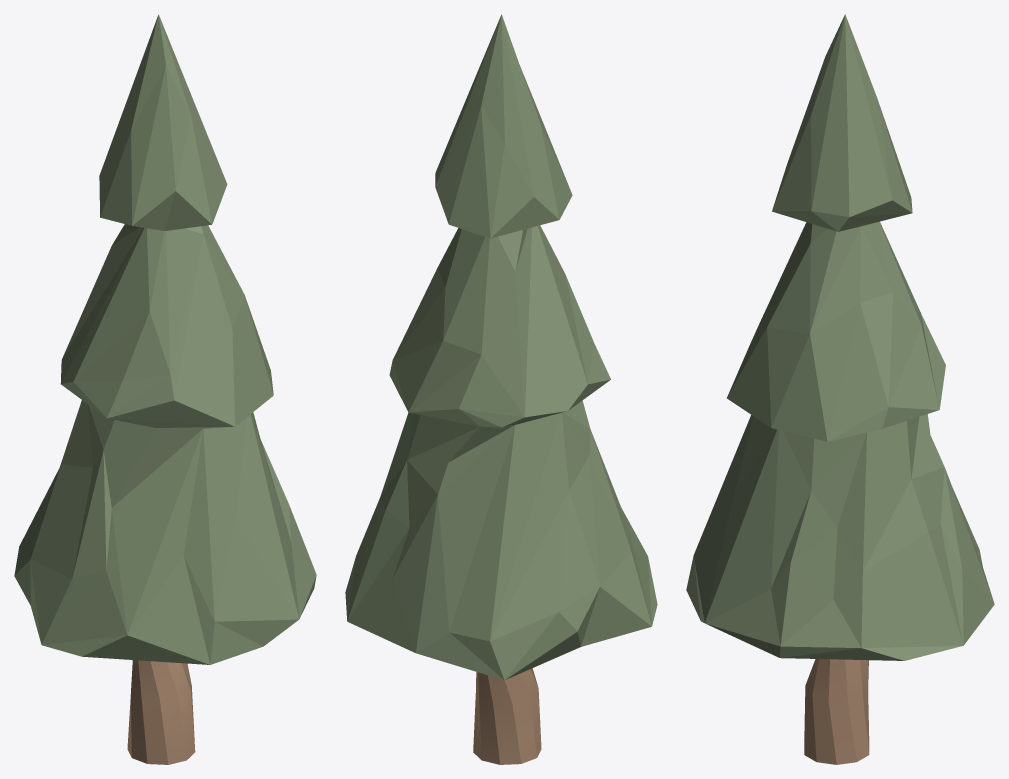
Rendered from Pine_Tree_2.fbx.
3 renders of one model, left to right at view 1: azimuth 30°, elevation 25°; view 2: azimuth 150°, elevation 25°; view 3: azimuth 270°, elevation 25°, orthographic.
Visible parts, largest first — view 1: Pine_Tree_2; view 2: Pine_Tree_2; view 3: Pine_Tree_2.
Part boxes in pixels (<box>): Pine_Tree_2: <box>14,14,316,764</box>; Pine_Tree_2: <box>345,14,657,764</box>; Pine_Tree_2: <box>686,14,994,764</box>.
Bounding box in the file's own units: 1.4 × 3.64 × 1.38.
